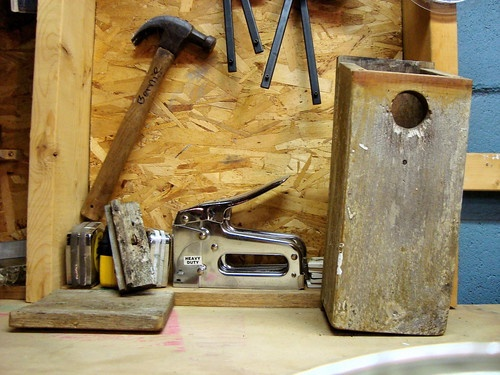hammer: (80, 16, 216, 220)
